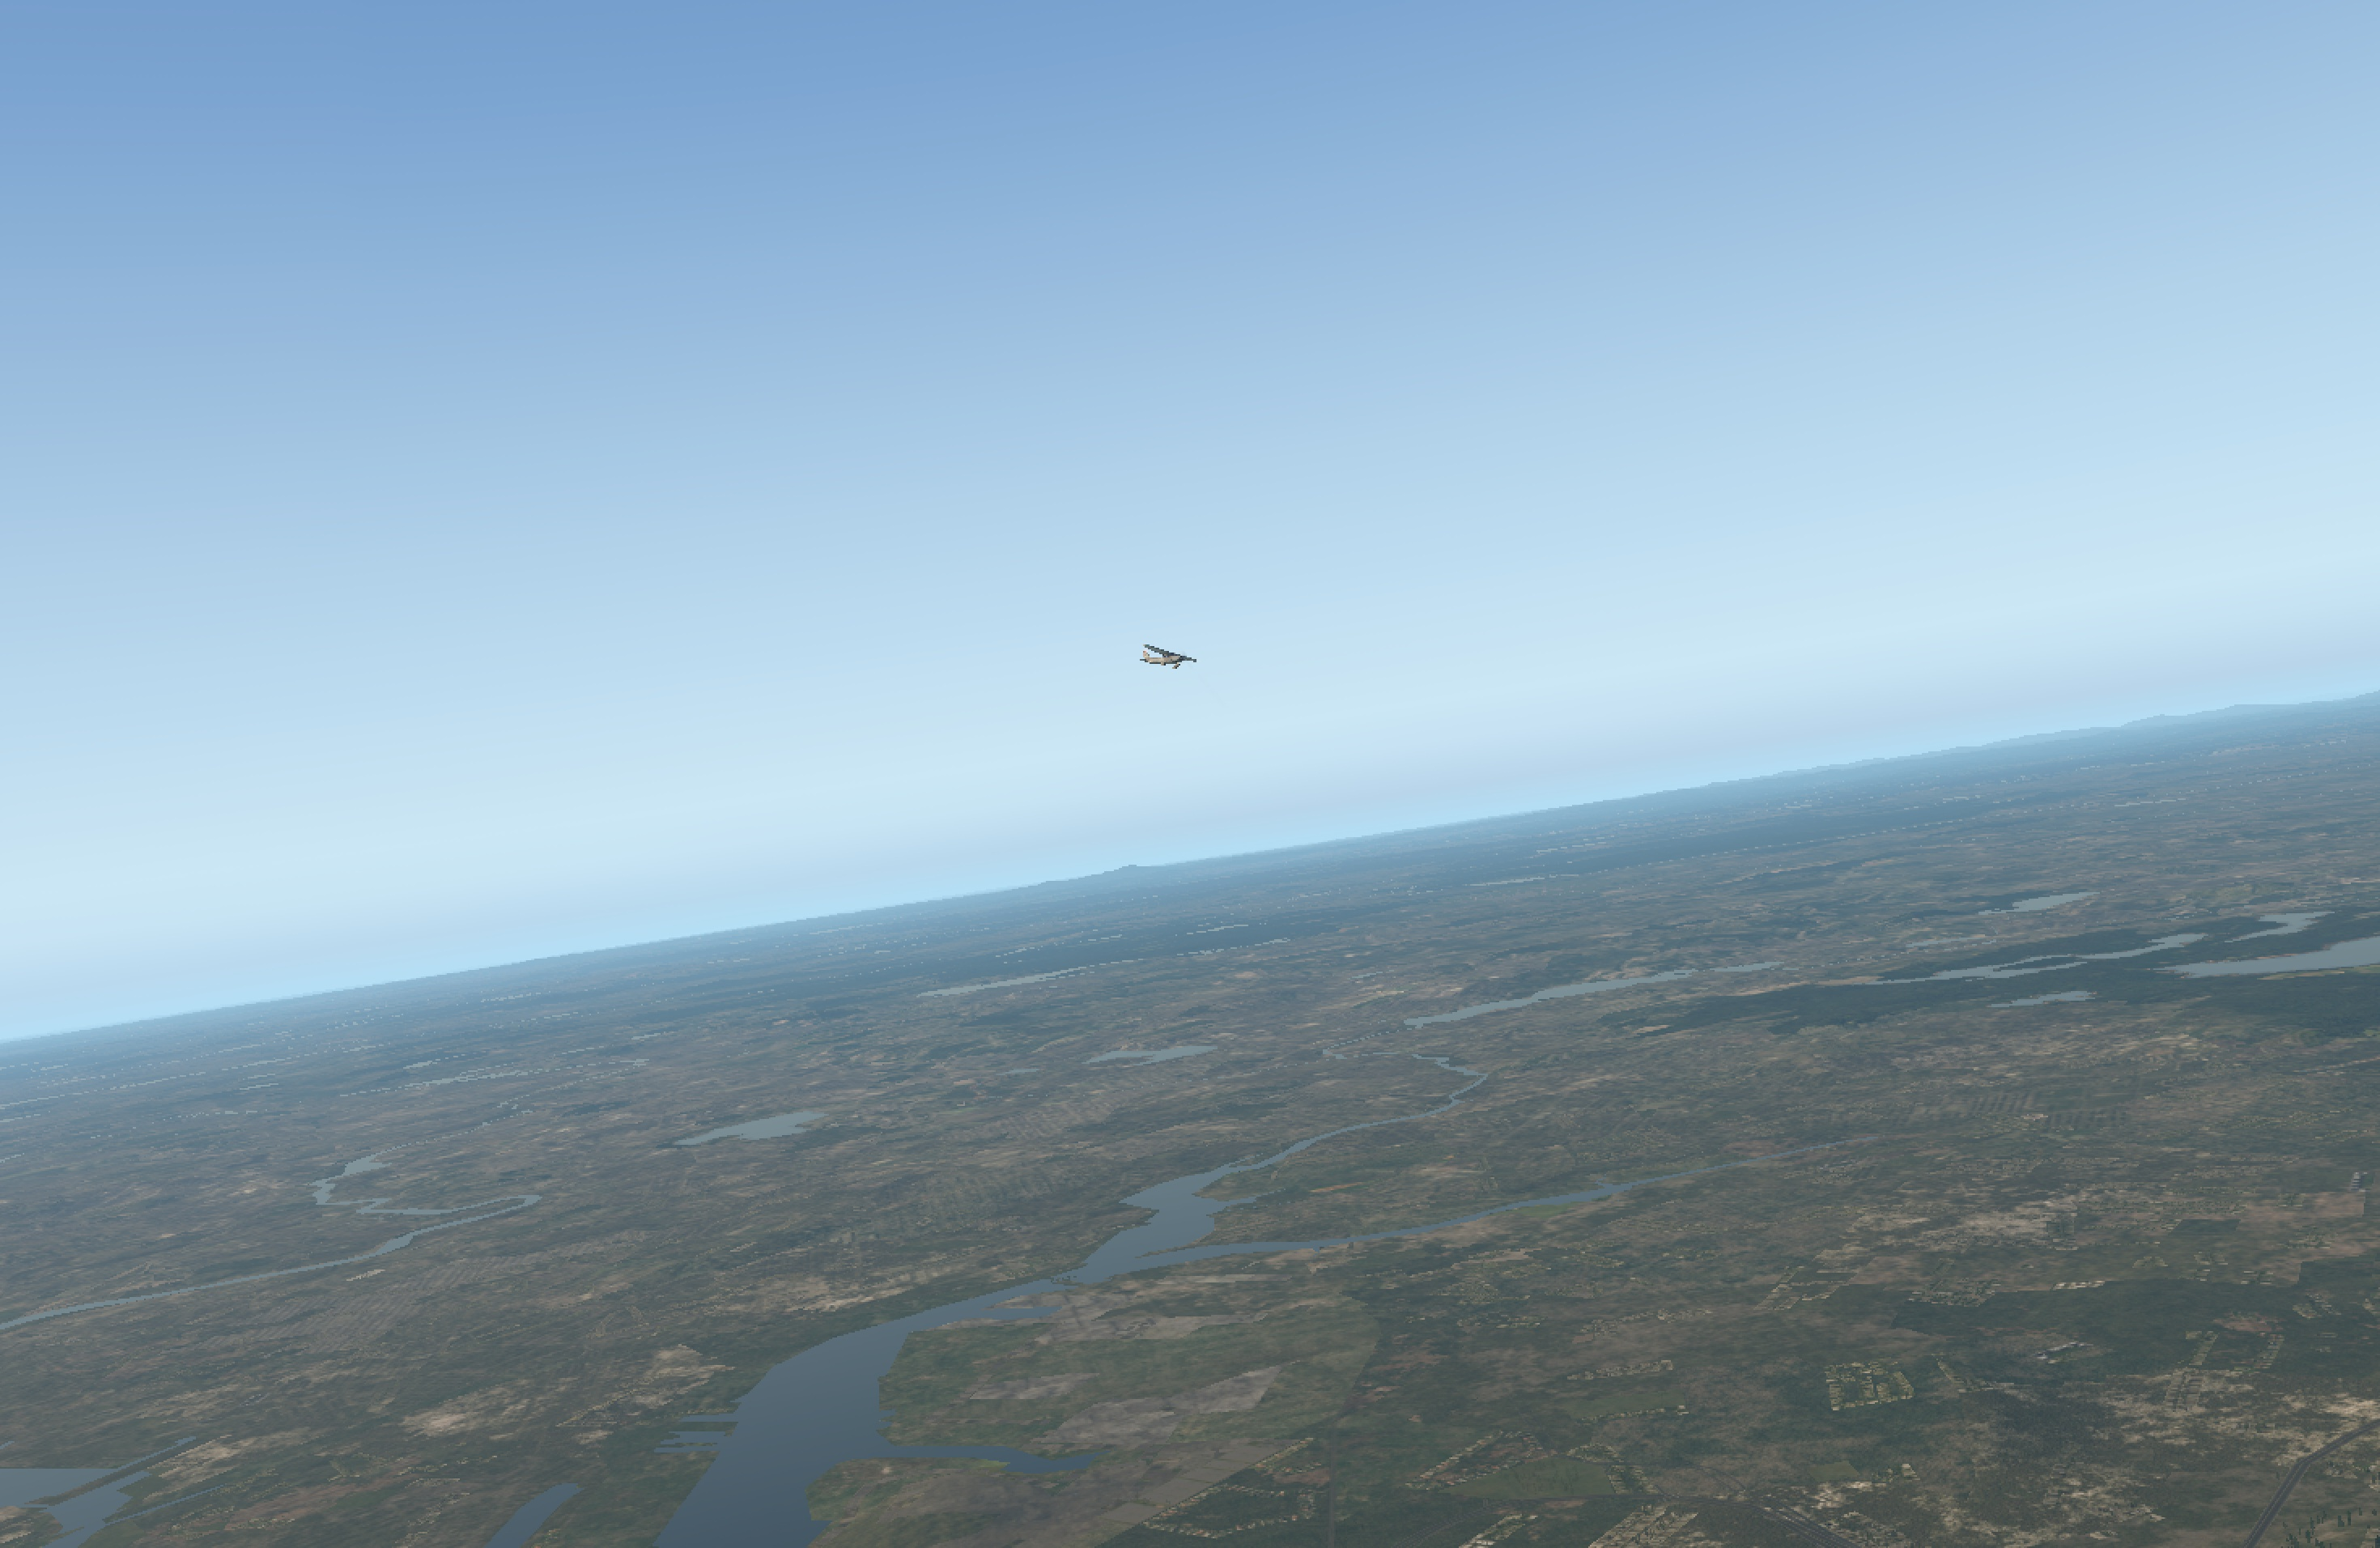aircraft: (1143, 647, 1200, 668)
